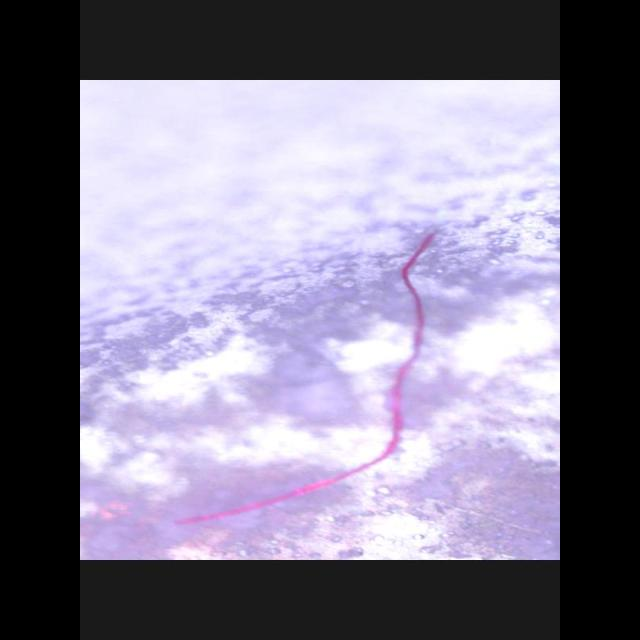Fibre: (172, 230, 440, 526)
